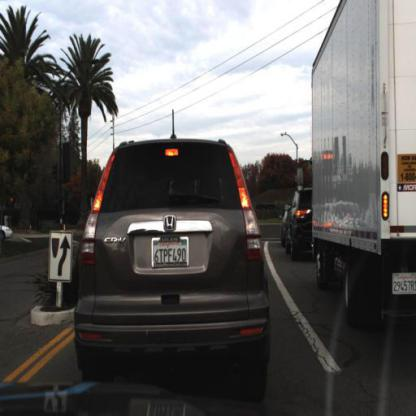car: (78, 136, 270, 391), (285, 187, 321, 257), (1, 221, 15, 243)
truck: (308, 1, 416, 329)
